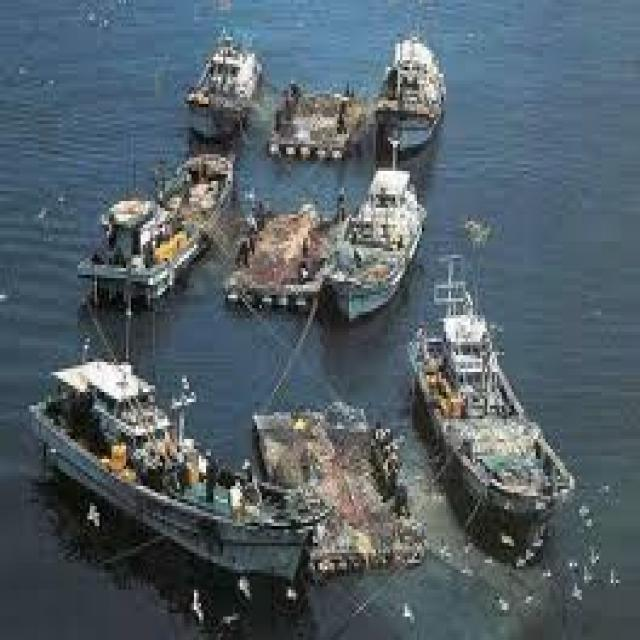Ship: (8, 330, 338, 598), (408, 242, 590, 557), (52, 135, 241, 323), (321, 148, 435, 333), (363, 21, 455, 159), (178, 21, 263, 145)
